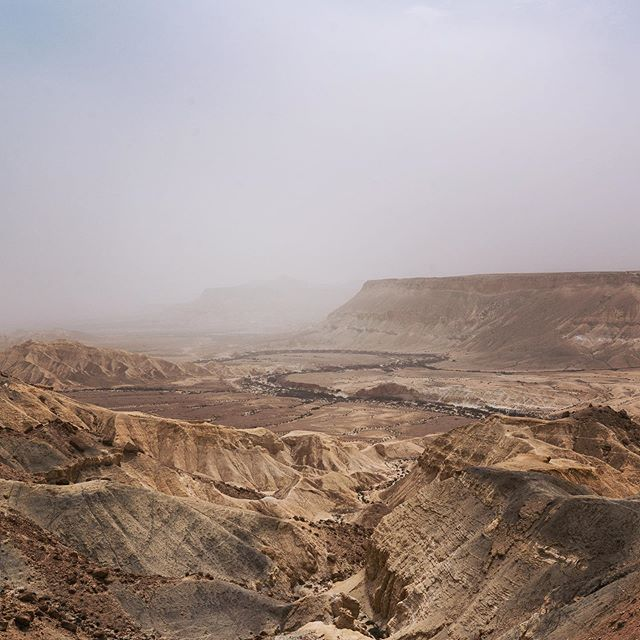sky: (1, 1, 640, 261)
